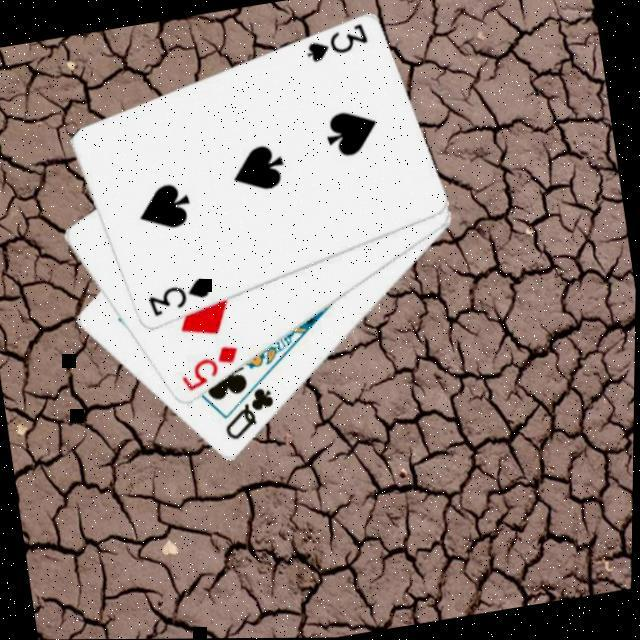3S: (140, 273, 214, 320), (298, 19, 372, 66)
5D: (173, 340, 244, 396)
QC: (215, 381, 282, 444)
